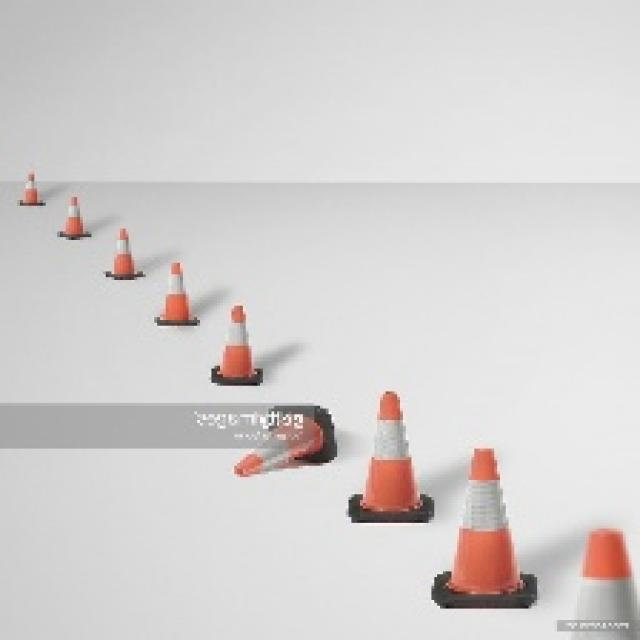cone: (432, 440, 538, 613), (343, 386, 439, 528), (559, 524, 640, 640), (225, 399, 340, 480), (210, 301, 265, 387), (153, 260, 201, 330), (101, 224, 146, 284), (54, 190, 96, 245), (18, 166, 46, 210)
